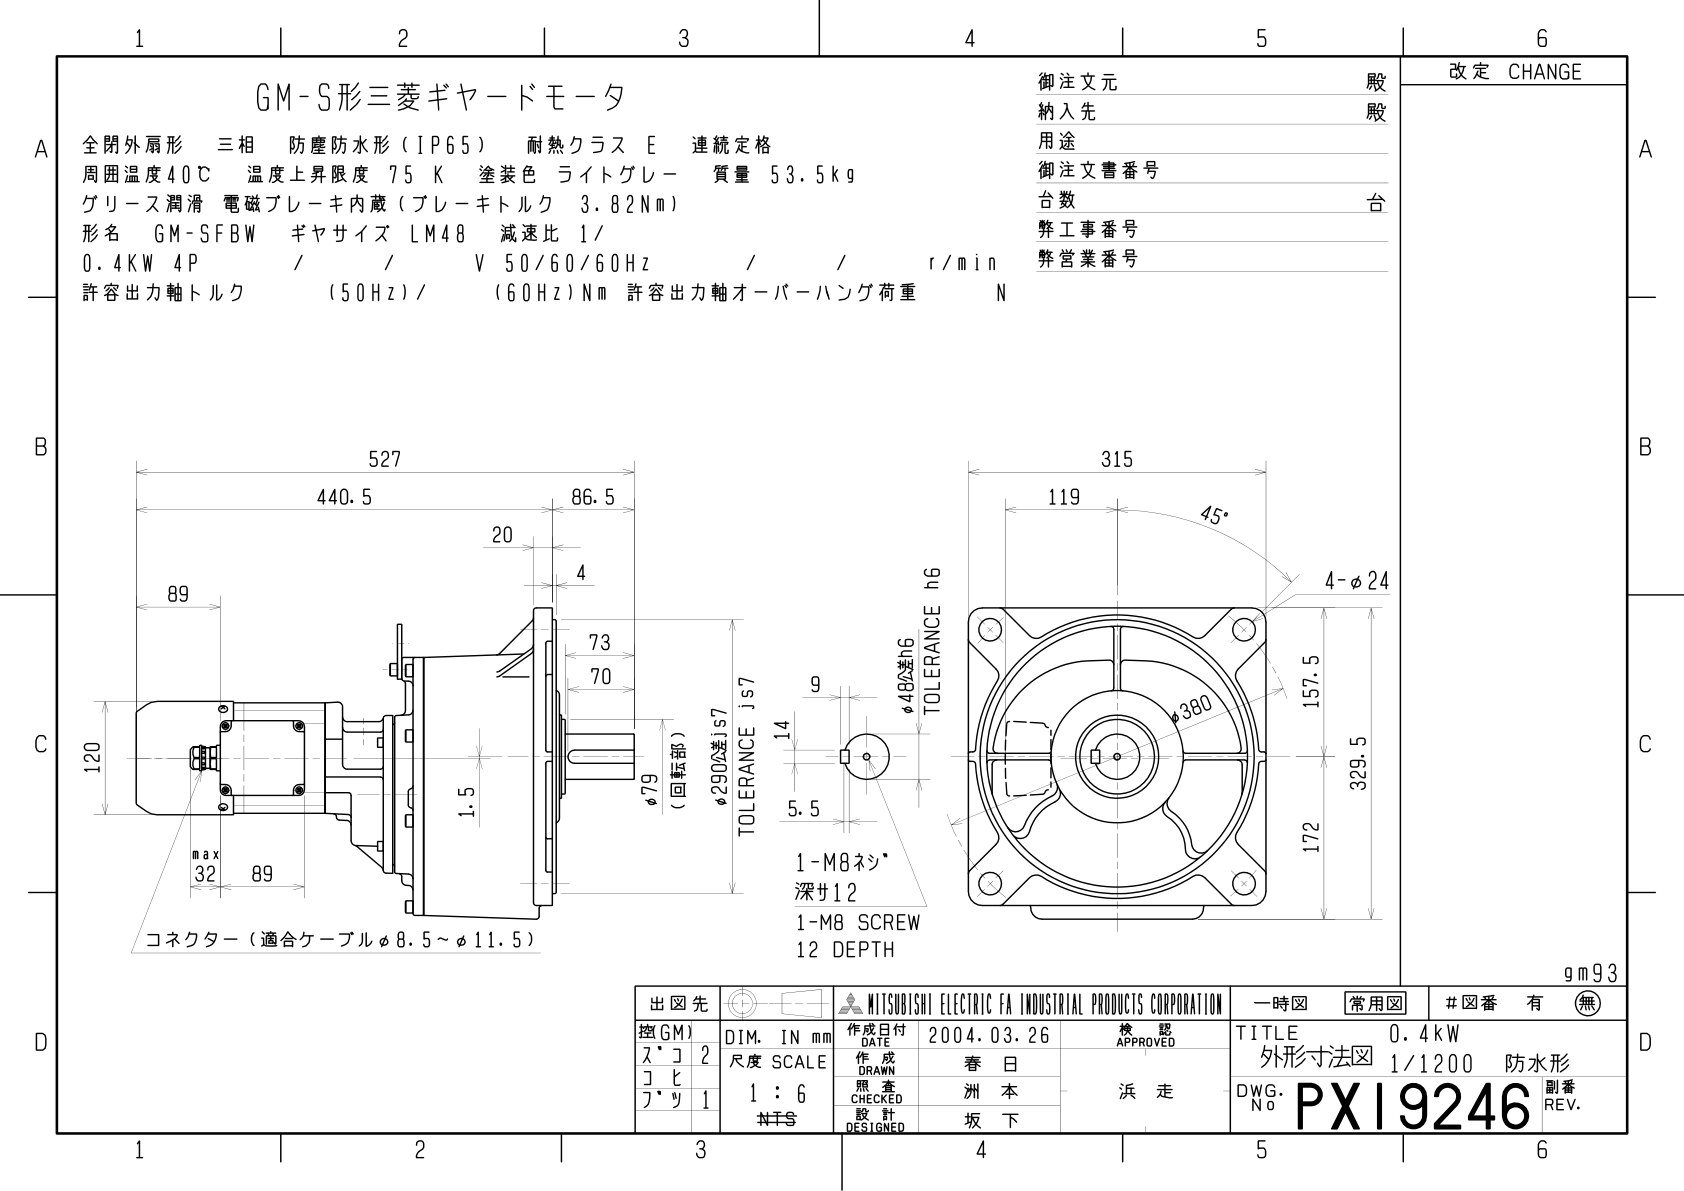GM_S_IP65＿三相_フランジ: (70, 384, 1397, 963)
